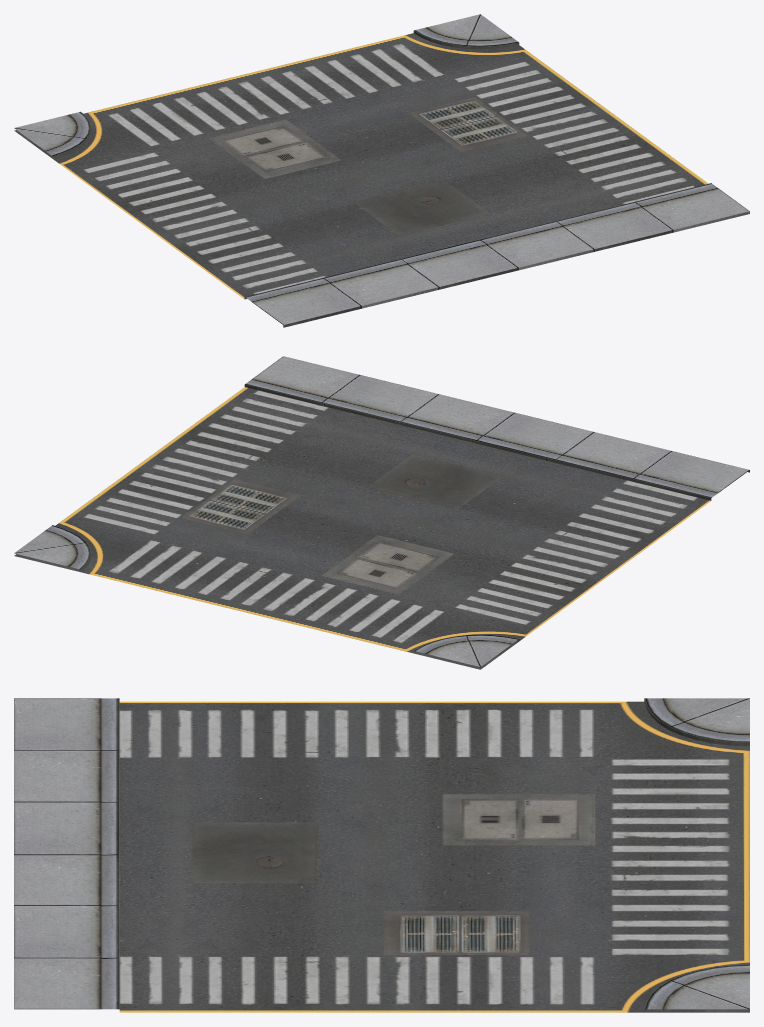
Rendered from side.glb.
The picture shows the model from 3 angles, top to bottom: view 1: azimuth 30°, elevation 25°; view 2: azimuth 150°, elevation 25°; view 3: azimuth 270°, elevation 25°; orthographic projection. The views are drawn at different scales.
Visible parts, largest first — view 1: Road_T_Intersection; view 2: Road_T_Intersection; view 3: Road_T_Intersection.
Boxes of the visible parts, x1,y1,x2,y2 form: Road_T_Intersection: [14, 14, 749, 327]; Road_T_Intersection: [14, 356, 749, 669]; Road_T_Intersection: [14, 698, 749, 1012].
Bounding box in the file's own units: 37.92 × 0.2045 × 37.92.
2 materials, 2 textured.
